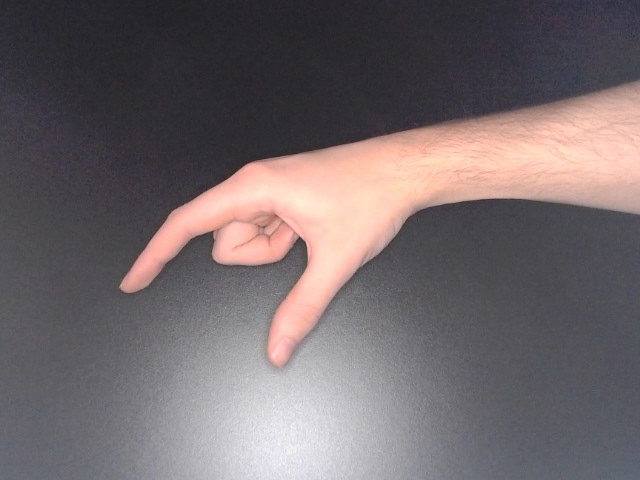q: (115, 125, 502, 375)
